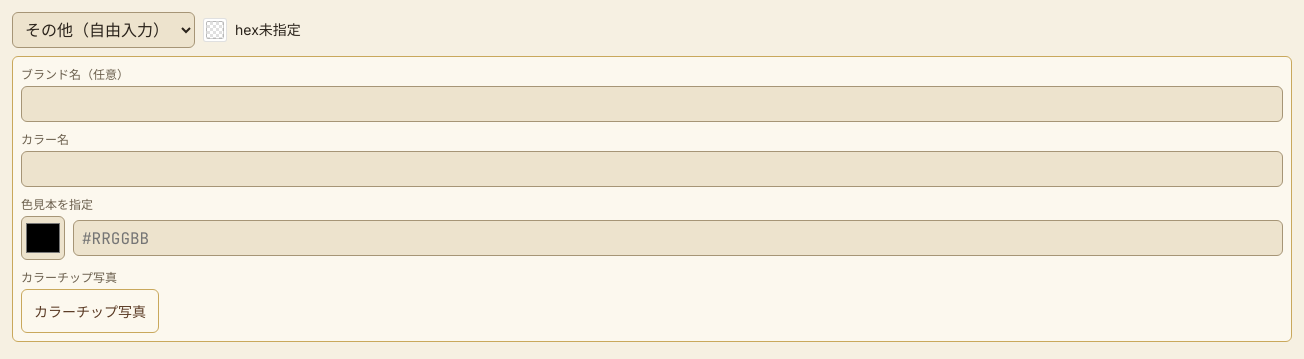
PaintPicker — レンジフィルタ › rangeを持つブランド（Vallejo）を選ぶとレンジフィルタが表示され、レンジ選択で候補が絞られる
Select "Vallejo" in the dropdown named "メーカー" at (104, 30), box [12,12,195,48]
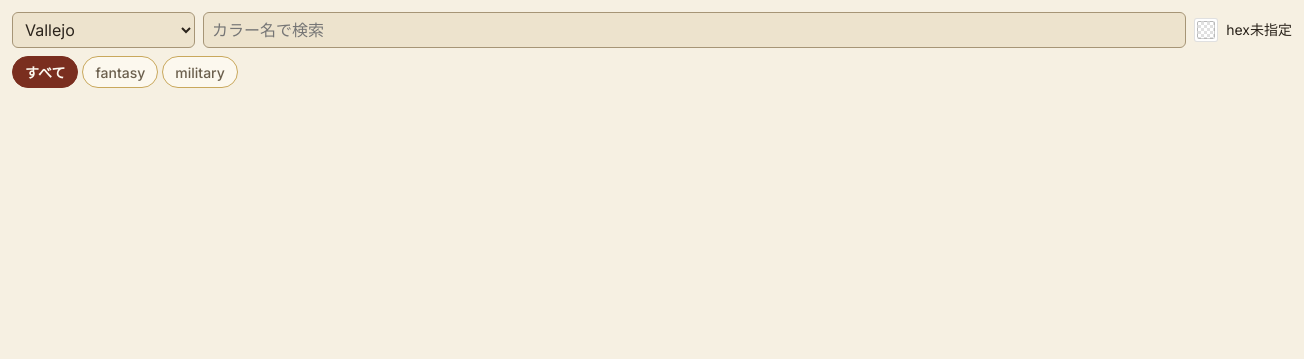
Click the button "military" at (200, 72), box [162,56,238,88]
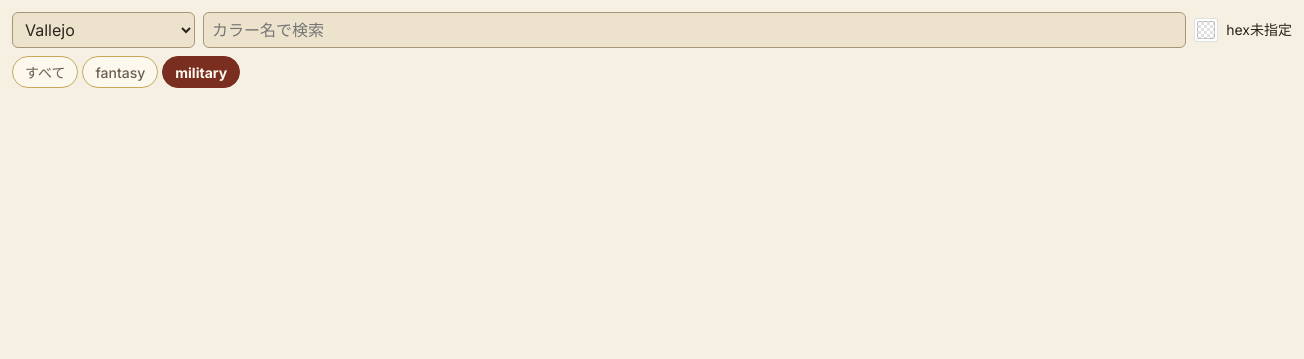
Focus the dropdown labelled "カラー" at (695, 30), box [203,12,1186,48]
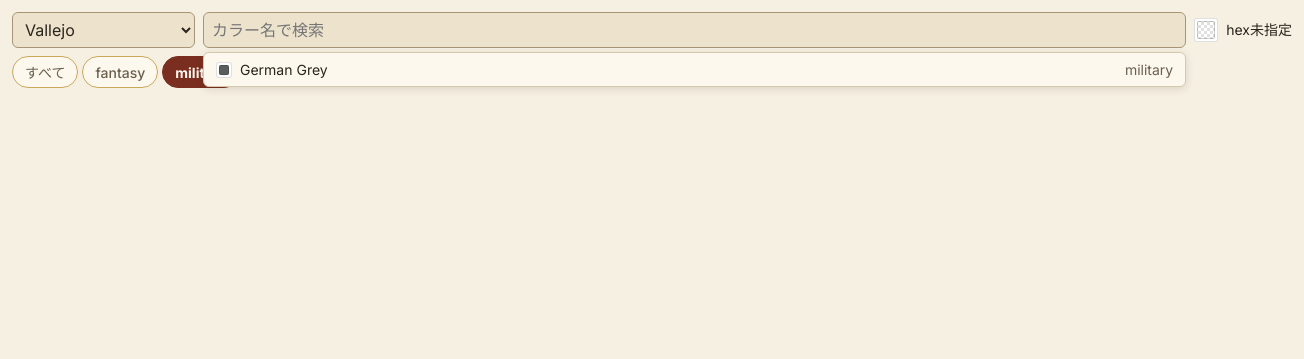
expect the option "German Grey military" is shown: met, box [208,57,1181,82]
